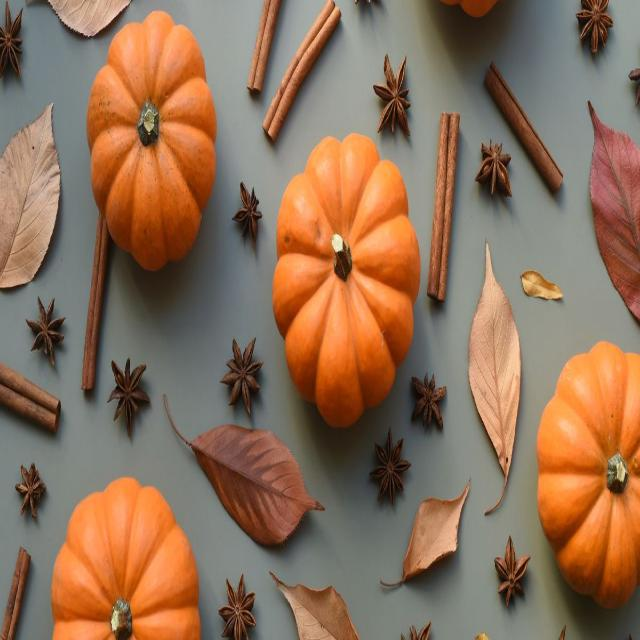pumpkin: (272, 135, 420, 426), (86, 10, 216, 270), (536, 341, 640, 608), (51, 478, 199, 640)
